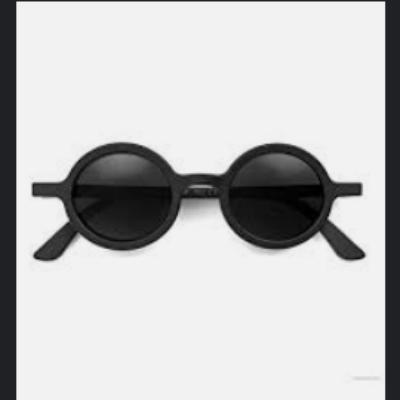glasses: (28, 138, 368, 282)
